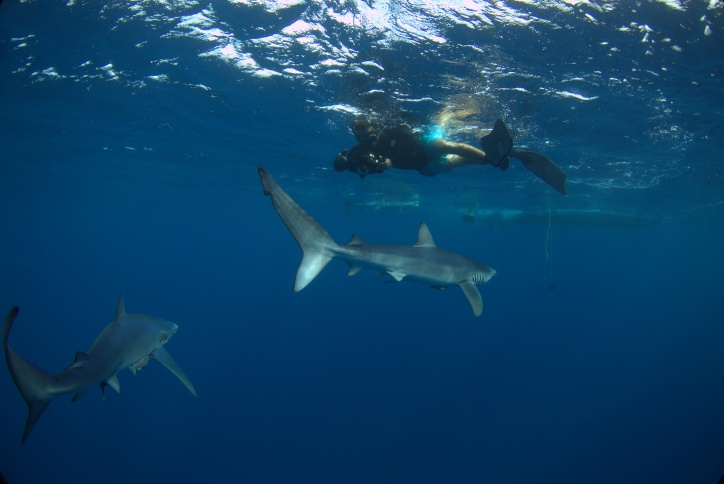Azul: (256, 161, 529, 345), (1, 289, 198, 440)
